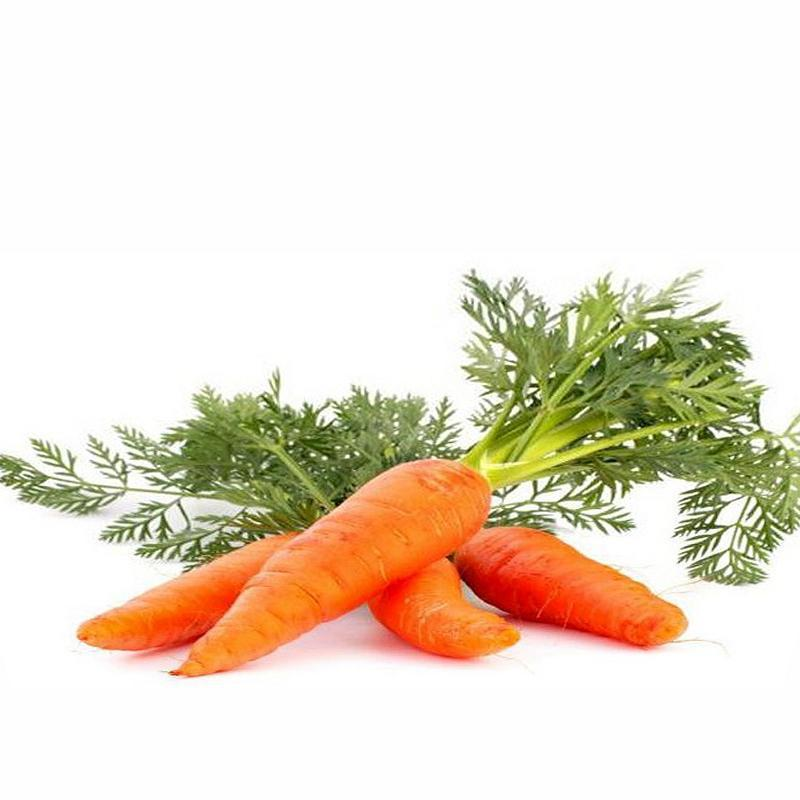carrot: (35, 376, 722, 718)
